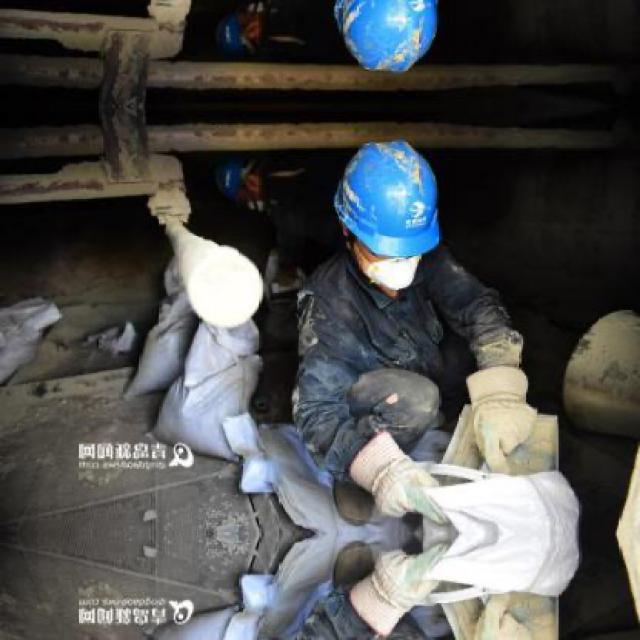helmet: (322, 128, 451, 298), (320, 0, 451, 86), (209, 1, 277, 62), (209, 152, 277, 212)
